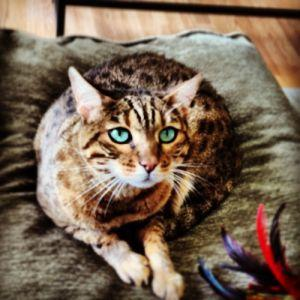bengal: (61, 59, 216, 194)
